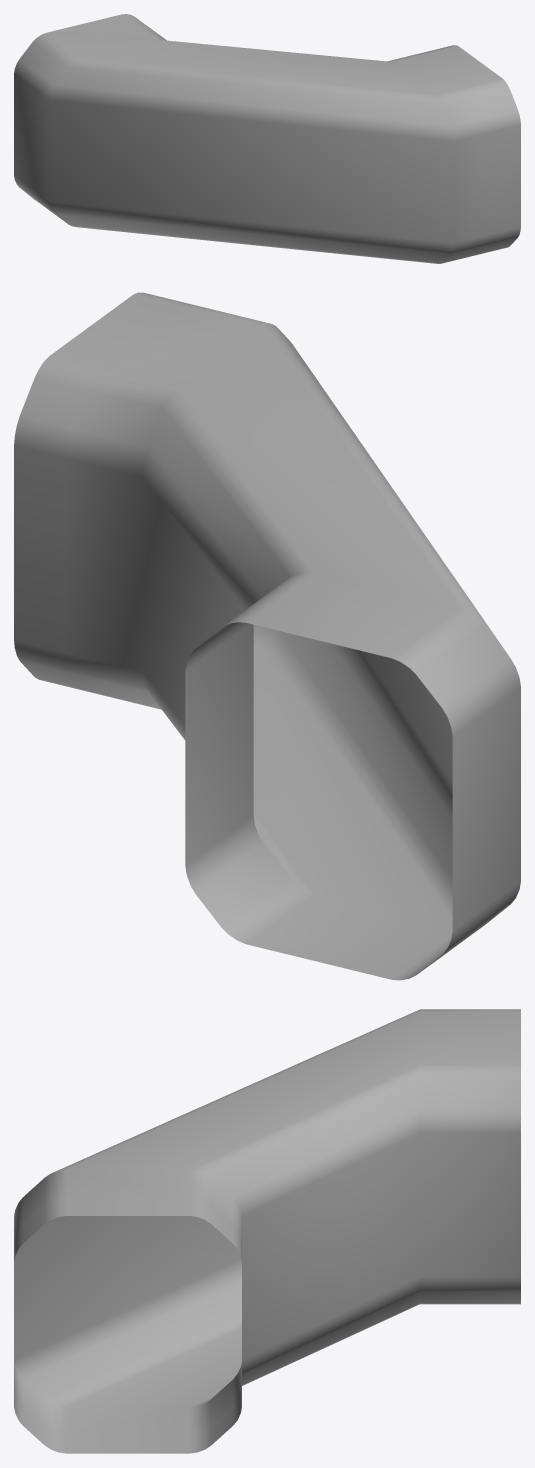
The model's file is tunultot.fbx.
The picture shows the model from 3 angles, top to bottom: view 1: azimuth 30°, elevation 25°; view 2: azimuth 150°, elevation 25°; view 3: azimuth 270°, elevation 25°; orthographic projection. The views are drawn at different scales.
Parts seen in each view (by area): view 1: tunulroom_tunul; view 2: tunulroom_tunul; view 3: tunulroom_tunul.
Part boxes in pixels (box(x1,y1,x2,y2)): tunulroom_tunul: box(14, 14, 520, 263); tunulroom_tunul: box(14, 292, 520, 980); tunulroom_tunul: box(14, 1009, 520, 1453).
Bounding box in the file's own units: 268 × 131 × 253.
1 material, 1 textured.
